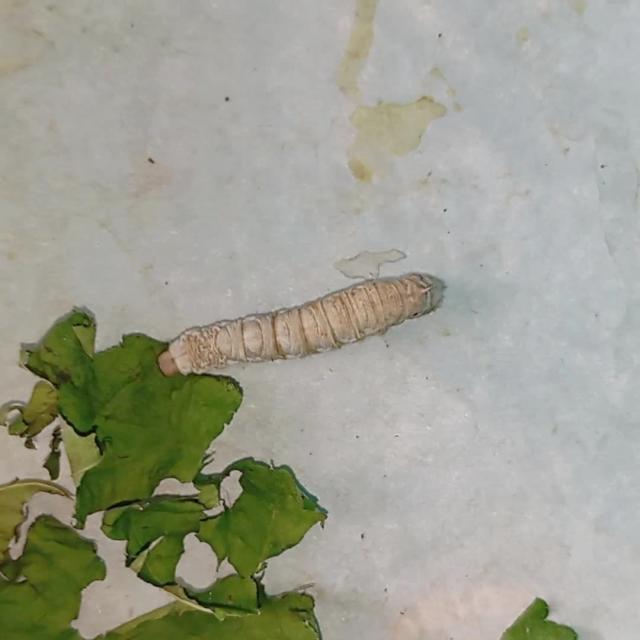Grasserie: (149, 266, 455, 381)
